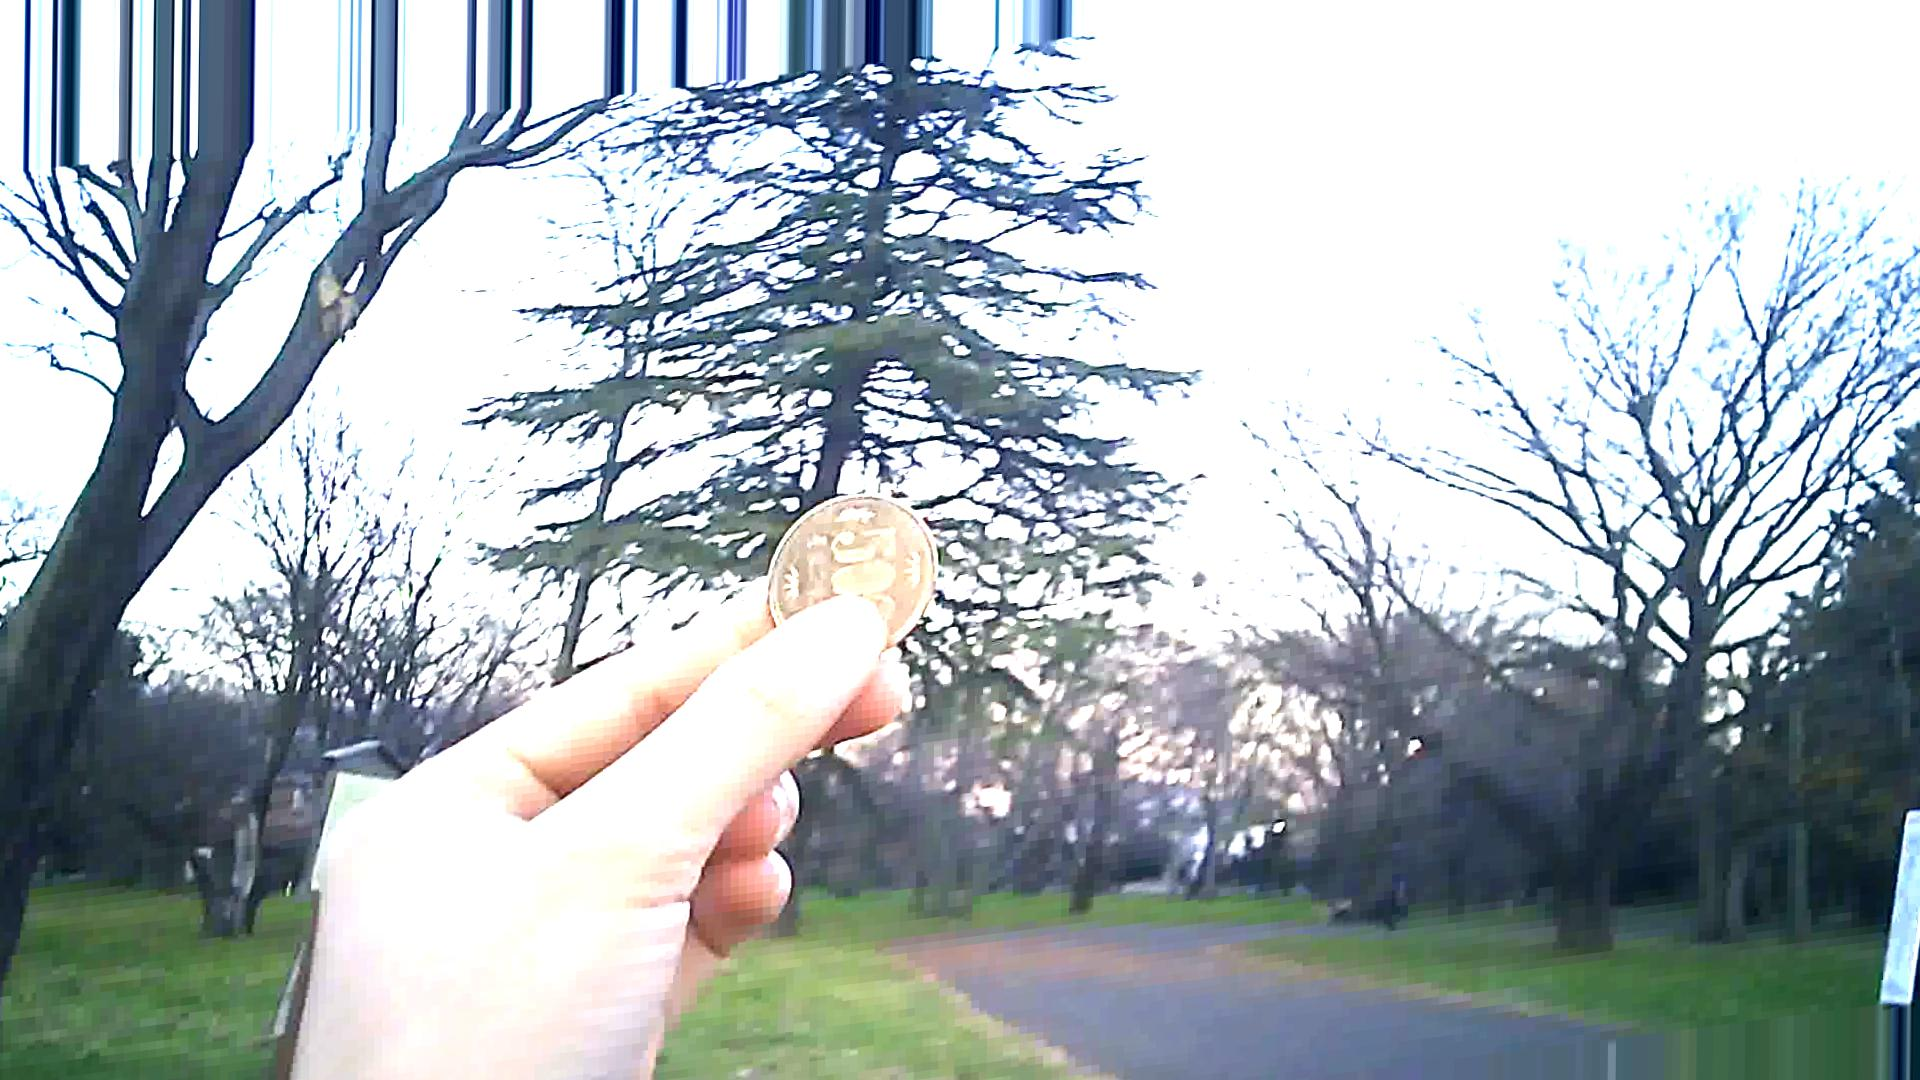500 Yen: (752, 484, 934, 662)
